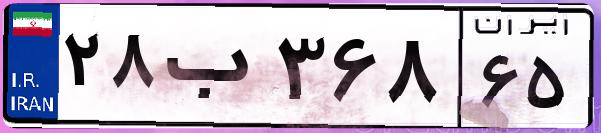2: (57, 26, 110, 100)
3: (270, 28, 330, 110)
5: (525, 38, 570, 115)
6: (330, 28, 385, 110), (475, 38, 525, 113)
8: (385, 28, 445, 110), (110, 28, 158, 98)
ب: (158, 20, 270, 120)
